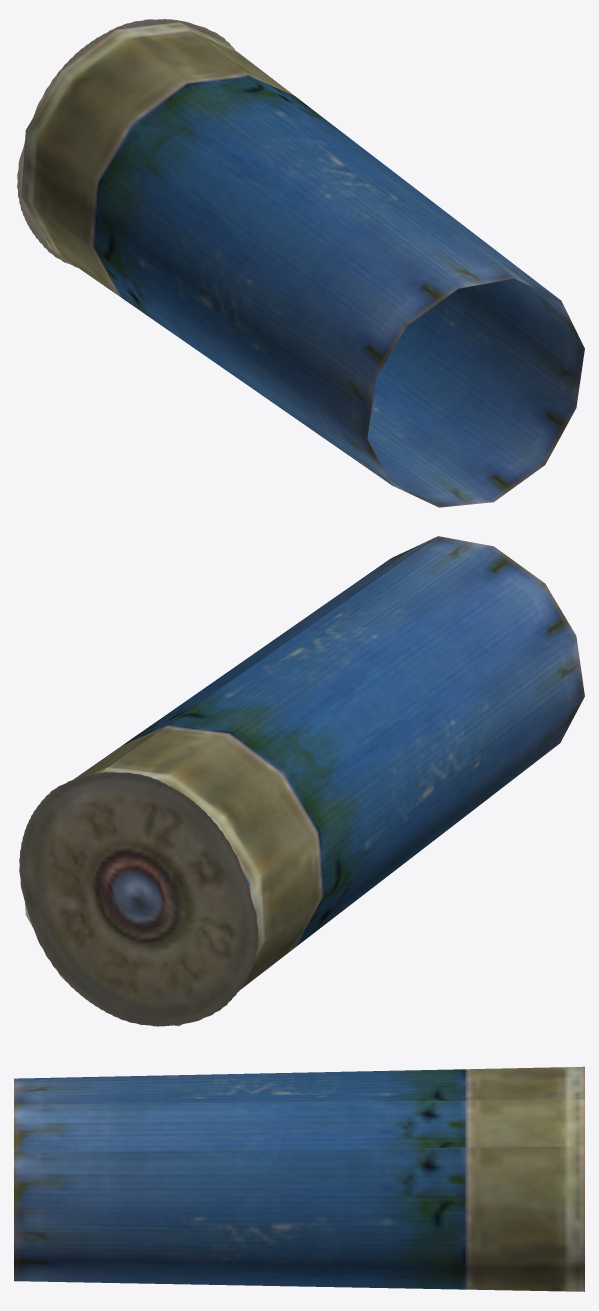
Rendered from bullet.obj.
3 renders of one model, top to bottom at view 1: azimuth 30°, elevation 25°; view 2: azimuth 150°, elevation 25°; view 3: azimuth 270°, elevation 25°, orthographic. The views are drawn at different scales.
Visible parts, largest first — view 1: wpn34_ammo_12x70; view 2: wpn34_ammo_12x70; view 3: wpn34_ammo_12x70.
Part boxes in pixels (x1,y1,x2,y2): wpn34_ammo_12x70: (17,19,584,507); wpn34_ammo_12x70: (19,536,584,1026); wpn34_ammo_12x70: (14,1066,584,1291).
Size of the model in its own units: 0.0231 by 0.0232 by 0.0547.
2 materials, 2 textured.
